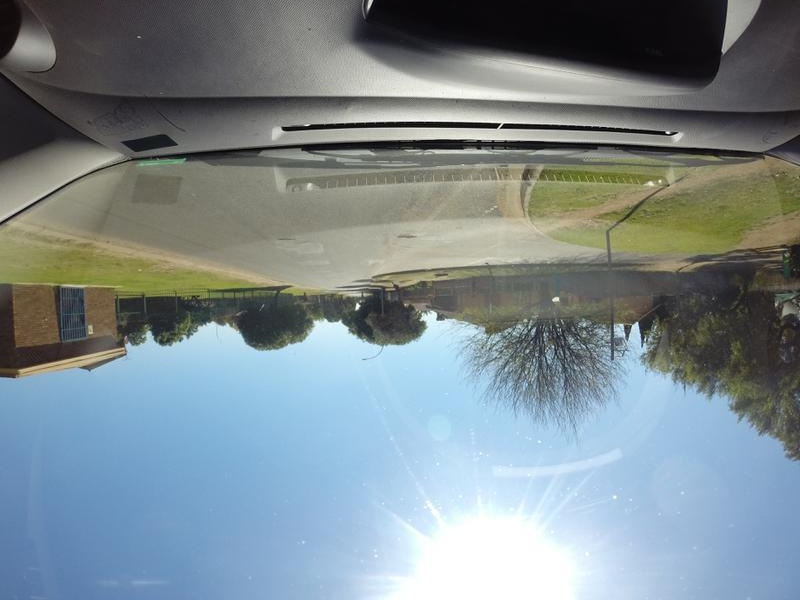pothole: (391, 231, 420, 242), (272, 236, 293, 244)
